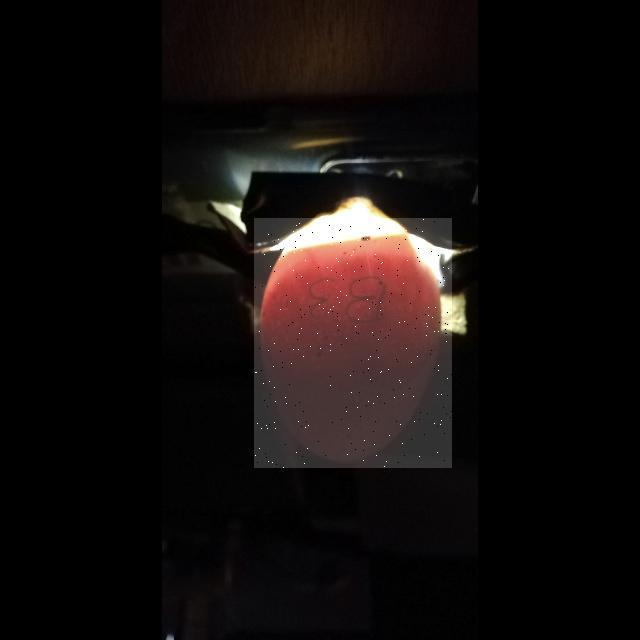Fertile: (254, 218, 452, 468)
